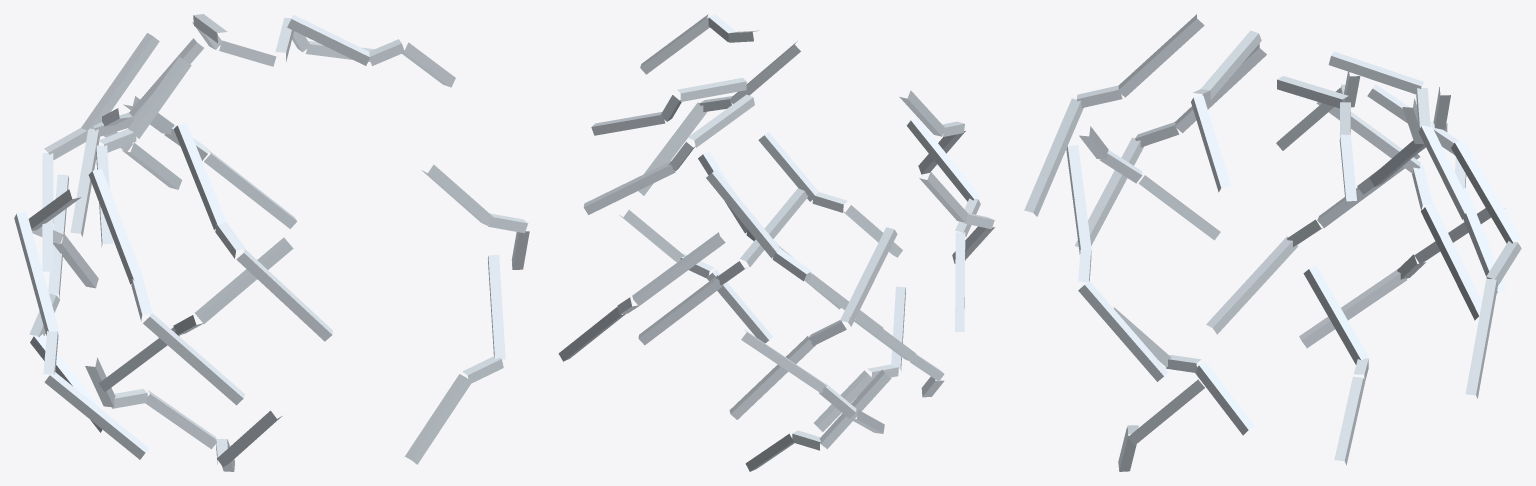
The model's file is lightning_static.glb.
3 views of the same model, side by side, from view 1: azimuth 30°, elevation 25°; view 2: azimuth 150°, elevation 25°; view 3: azimuth 270°, elevation 25° (orthographic). The views are drawn at different scales.
Visible parts, largest first — view 1: lightning_static; view 2: lightning_static; view 3: lightning_static.
Part boxes in pixels (x1,y1,x2,y2): lightning_static: (14,14,529,471); lightning_static: (558,14,994,471); lightning_static: (1024,14,1521,471).
Size of the model in its own units: 1.07 by 1.11 by 1.11.
Materials: 1 (1 with a texture image).
